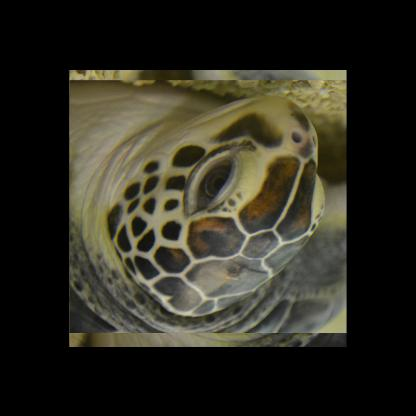turtle: (70, 69, 346, 346)
